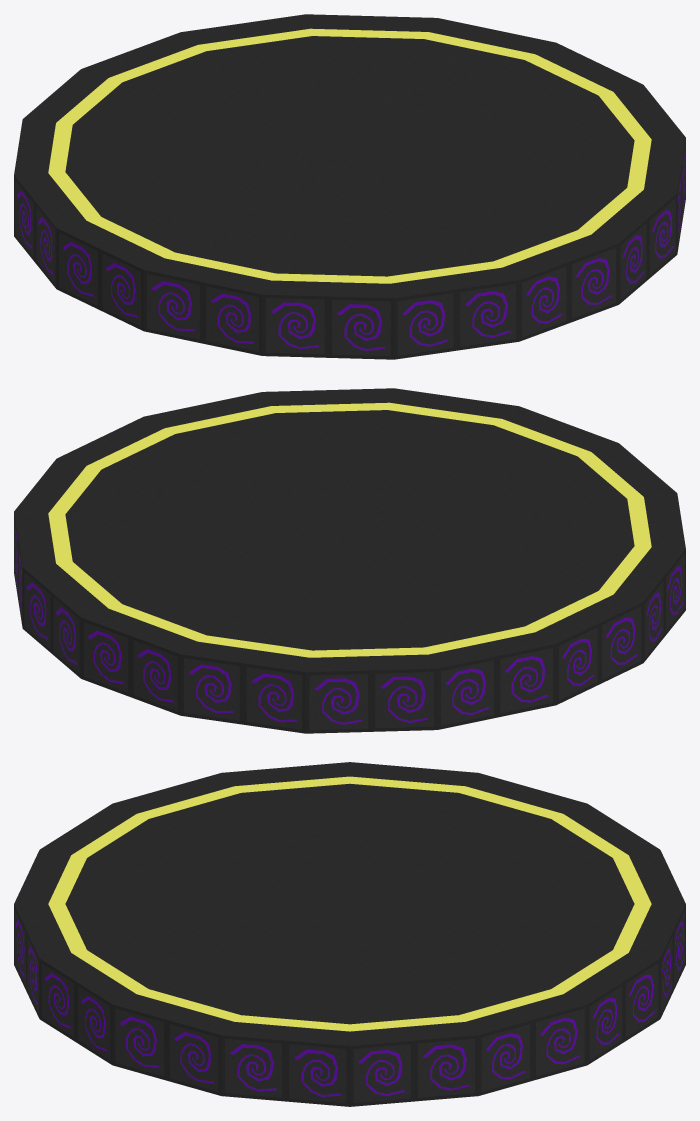
Rendered from portal.gltf.
3 views of the same model, one above another, from view 1: azimuth 30°, elevation 25°; view 2: azimuth 150°, elevation 25°; view 3: azimuth 270°, elevation 25° (orthographic).
Visible parts, largest first — view 1: Cylinder; view 2: Cylinder; view 3: Cylinder.
Boxes of the visible parts, x1,y1,x2,y2 form: Cylinder: (14,14,685,359); Cylinder: (14,388,685,733); Cylinder: (14,762,685,1106).
Size of the model in its own units: 4 by 0.4 by 4.
Materials: 4 (2 with a texture image).
